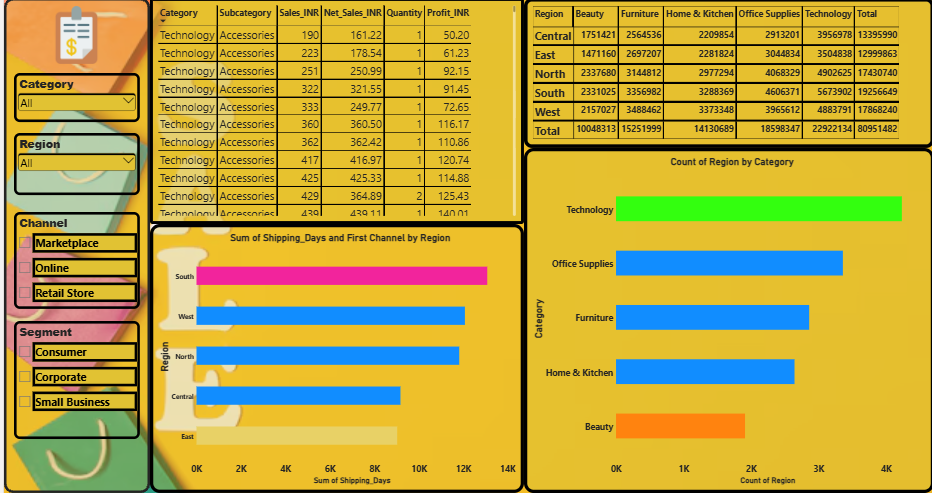

The dashboard page shown, as its layout file describes it:
{"tool":"powerbi","page":{"name":"5DETAILED BUSINESS REPORT","canvas":[2860,1523],"ordinal":5},"visuals":[{"type":"shape","box":[0,0,387.5,1522.3],"z":1000},{"type":"pivotTable","fields":{"Columns":["sales_data.Sales_INR","sales_data.Net_Sales_INR","sales_data.Quantity","sales_data.Profit_INR"],"Rows":["sales_data.Category","sales_data.Subcategory"]},"box":[387.5,0,1211.7,695],"z":1001},{"type":"pivotTable","fields":{"Columns":["sales_data.Category","sales_data.Profit_INR","sales_data.Sales_INR"],"Rows":["sales_data.Region"]},"box":[1599.1,0,1233.2,461.3],"z":1002},{"type":"clusteredBarChart","fields":{"Category":["sales_data.Category"],"Y":["CountNonNull(sales_data.Region)"]},"box":[1599.1,461.3,1260.9,1061],"z":1003},{"type":"barChart","fields":{"Category":["sales_data.Region"],"Y":["Sum(sales_data.Shipping_Days)"]},"box":[387,695,1212,827],"z":1004}]}

Visuals, with their boxes in screenshot pixels (x1, y1, x2, y2), scaled from the page's 2860x1523 canvas onto the 932x493 screenshot:
shape: [0,0,126,492]
pivotTable - sales_data.Sales_INR x sales_data.Net_Sales_INR: [126,0,521,225]
pivotTable - sales_data.Category x sales_data.Profit_INR: [521,0,923,149]
clusteredBarChart - sales_data.Category x CountNonNull(sales_data.Region): [521,149,931,492]
barChart - sales_data.Region x Sum(sales_data.Shipping_Days): [126,225,521,492]
